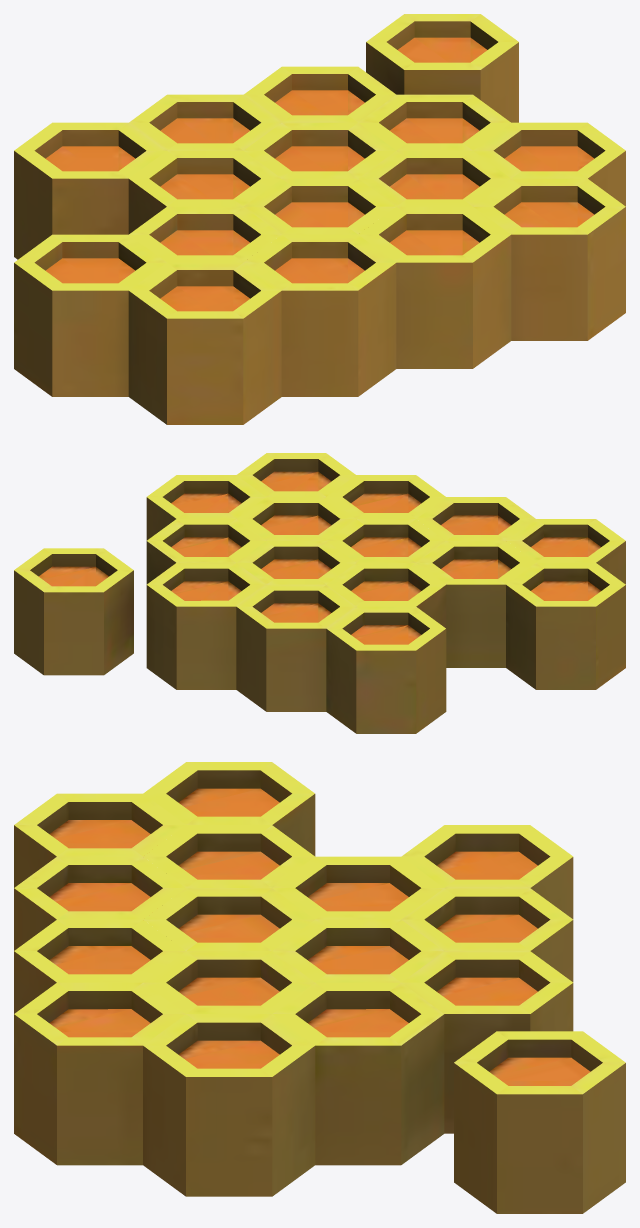
The model's file is honeycomb.glb.
3 views of the same model, one above another, from view 1: azimuth 30°, elevation 25°; view 2: azimuth 150°, elevation 25°; view 3: azimuth 270°, elevation 25° (orthographic). The views are drawn at different scales.
Parts seen in each view (by area): view 1: honeycomb; view 2: honeycomb; view 3: honeycomb.
Part boxes in pixels (x1=…): honeycomb: x1=14, y1=14, x2=625, y2=424; honeycomb: x1=14, y1=453, x2=625, y2=733; honeycomb: x1=14, y1=762, x2=625, y2=1213.
Bounding box in the file's own units: 2.06 × 0.346 × 1.6.
1 material, 1 textured.
